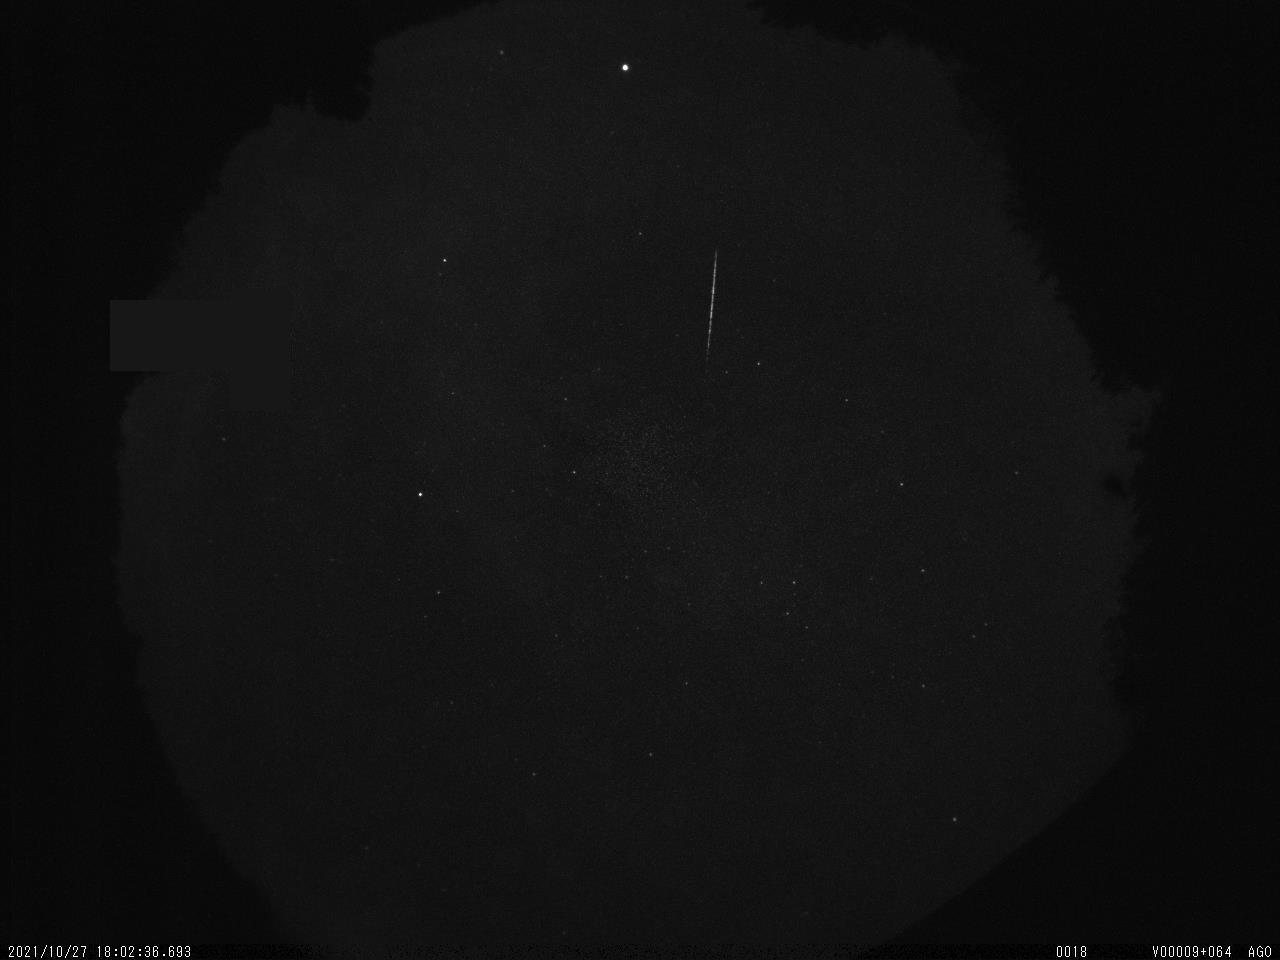meteor: (691, 240, 737, 371)
